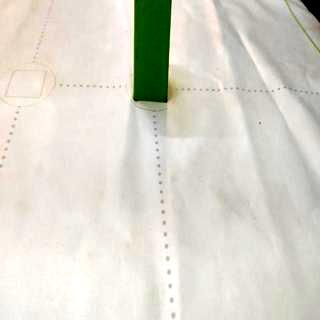greenbox: (132, 2, 173, 102)
